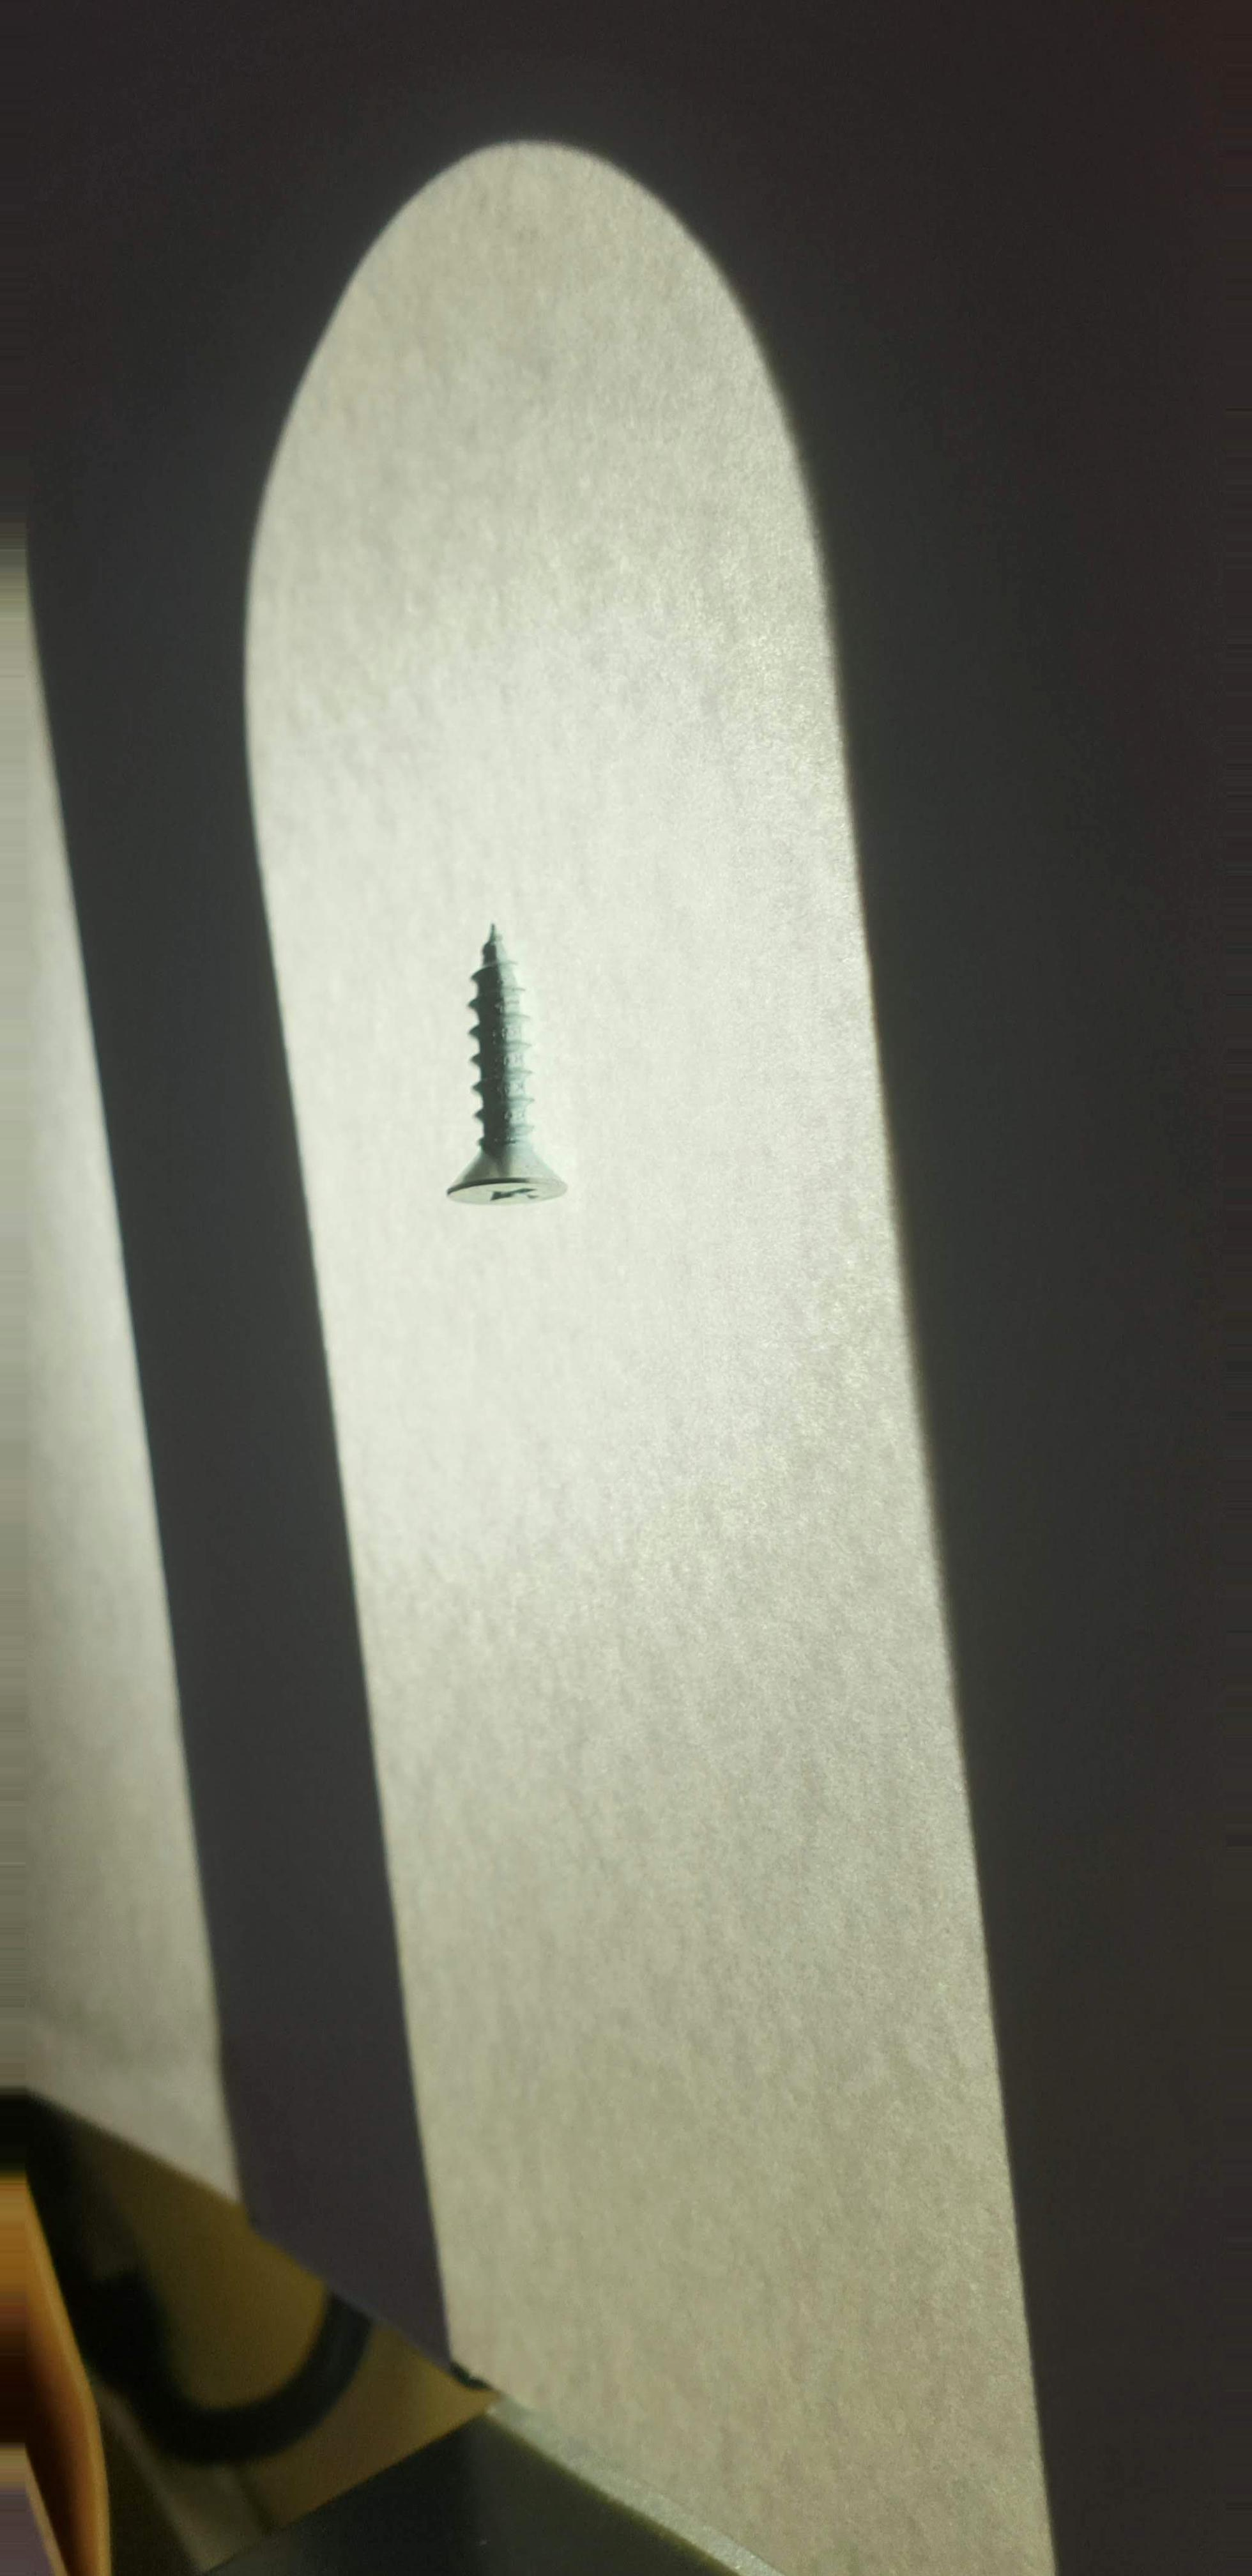S003: (422, 889, 588, 1257)
